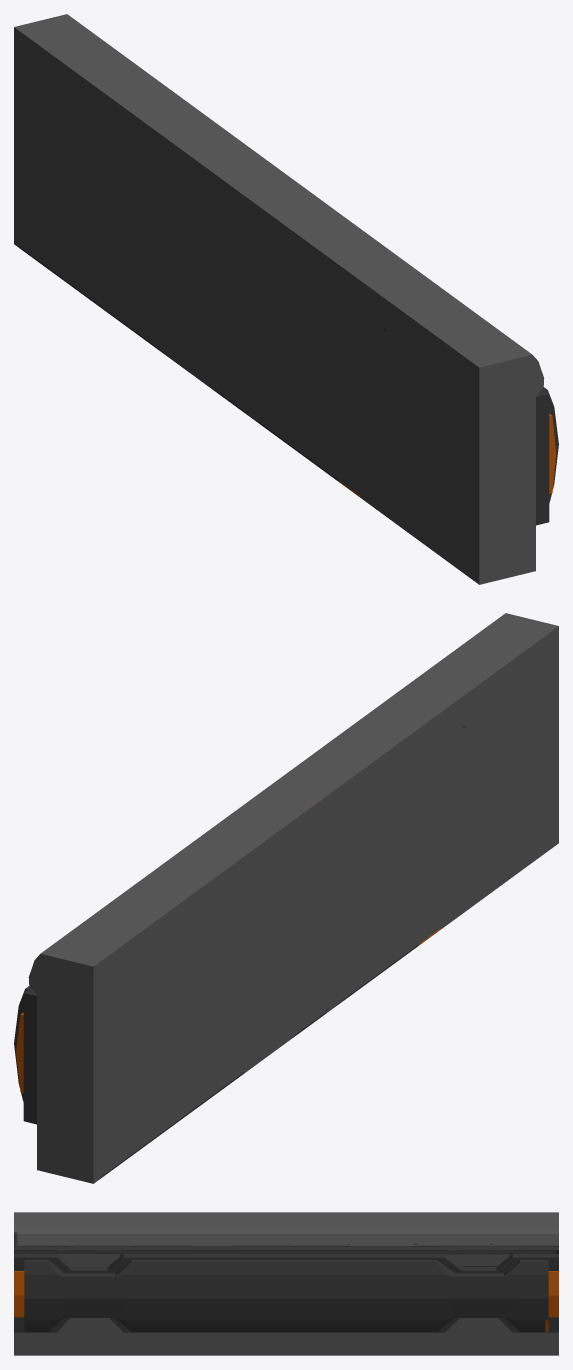
File: Arena_wall(IMPROVED).fbx
3 views of the same model, one above another, from view 1: azimuth 30°, elevation 25°; view 2: azimuth 150°, elevation 25°; view 3: azimuth 270°, elevation 25° (orthographic). The views are drawn at different scales.
Parts seen in each view (by area): view 1: Cube; view 2: Cube; view 3: Cube.
Part boxes in pixels (left/top/right/bottom): Cube: left=14, top=14, right=558, bottom=584; Cube: left=14, top=613, right=558, bottom=1183; Cube: left=14, top=1212, right=558, bottom=1355.
Size of the model in its own units: 313 by 737 by 2863.
1 material, 1 textured.
